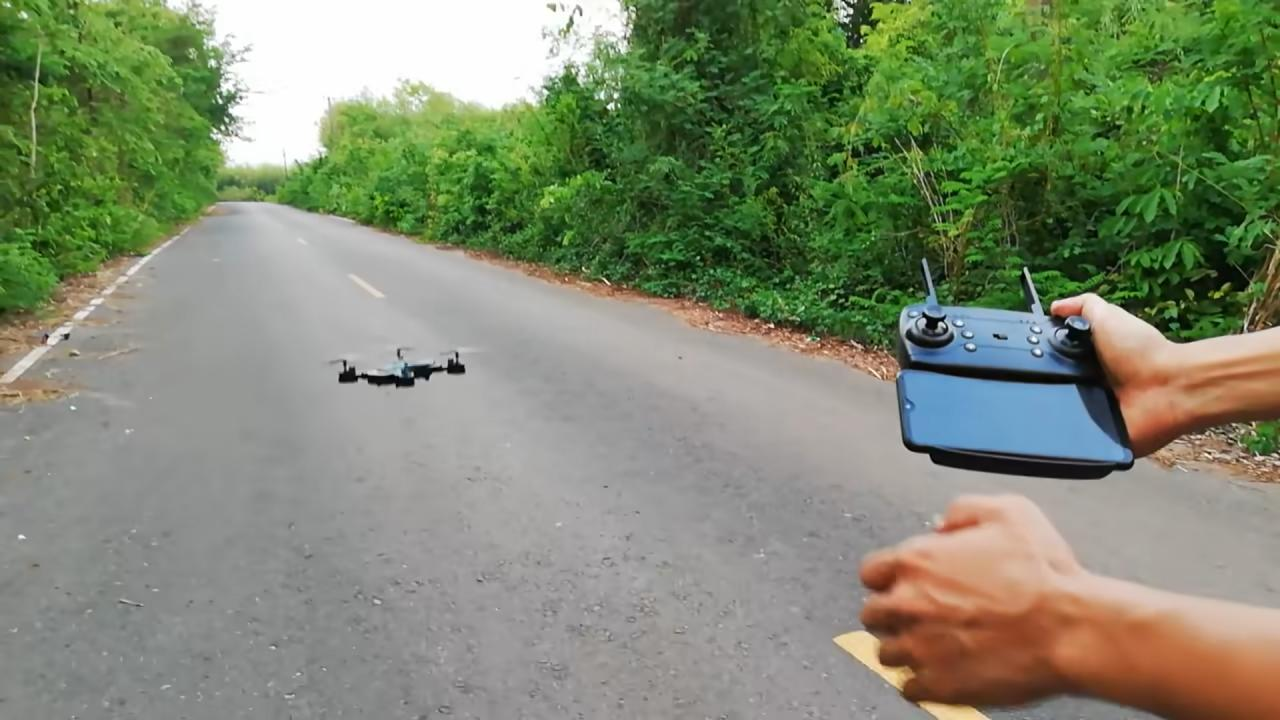Drone: (312, 328, 497, 398)
